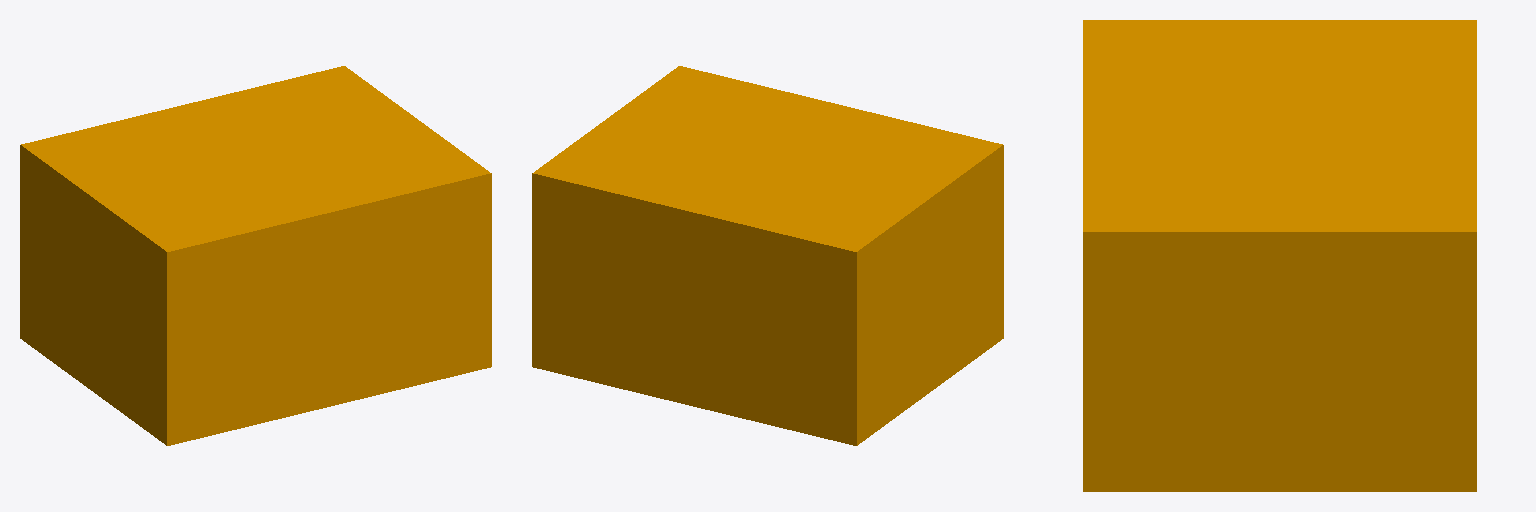
URDF robot description (object):
<?xml version="1.0"?>
<!-- Auto-generated by tools/gen_primitive_objects.py. kind=box dims=(0.089282, 0.070157, 0.051088) -->
<robot name="object">
  <link name="object">
    <visual>
      <origin xyz="0 0 0"/>
      <geometry>
        <box size="0.089282 0.070157 0.051088"/>
      </geometry>
    </visual>
    <collision>
      <origin xyz="0 0 0"/>
      <geometry>
        <box size="0.089282 0.070157 0.051088"/>
      </geometry>
    </collision>
    <inertial>
      <mass value="0.064001"/>
      <inertia ixx="0.00004017" ixy="0.0" ixz="0.0" iyy="0.00005643" iyz="0.0" izz="0.00006876"/>
    </inertial>
  </link>
</robot>

--- What the picture shows (computed from the rendered views, not written in the file) ---
3 views of the same robot in one strip: view 1: azimuth 30°, elevation 25°; view 2: azimuth 150°, elevation 25°; view 3: azimuth 270°, elevation 25° (orthographic).
Robot: object — 1 links, 0 joints (none); root link object; default pose: all joints at 0.
Links seen in each view (by area): view 1: object; view 2: object; view 3: object.
Boxes of the visible links, x1,y1,x2,y2 form: object: [20, 66, 491, 445]; object: [532, 66, 1003, 445]; object: [1083, 20, 1476, 491].
Size in the robot's own frame: 0.0893 by 0.0702 by 0.0511 metres.
Geometry: primitives only (box / cylinder / sphere), no mesh files.
